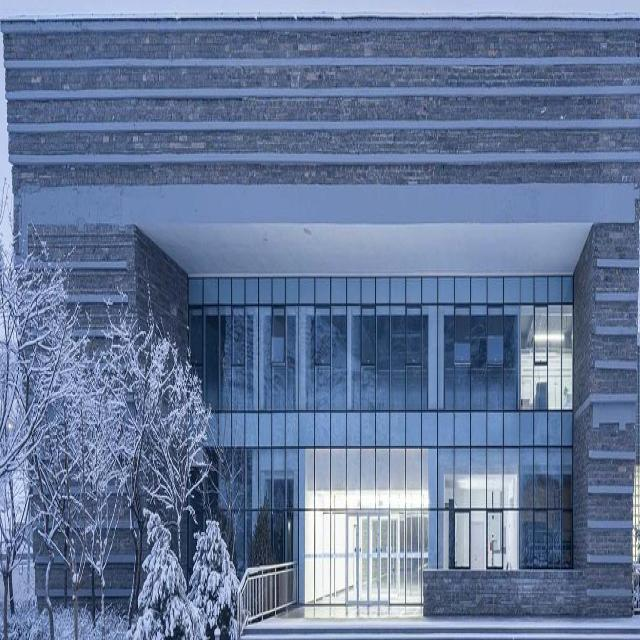door: (346, 510, 390, 610)
window: (187, 274, 574, 608)
